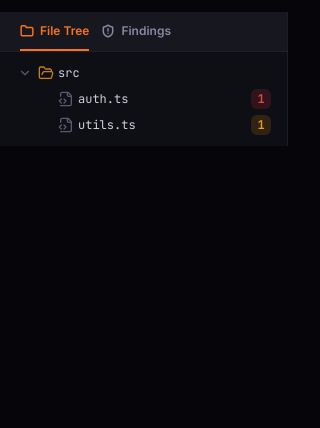
Sidebar Container › renders the Sidebar container and allows switching tabs
Expected: the text "File Tree" is shown, left=40, top=22, right=89, bottom=38
Expected: the text "auth.ts" is shown, left=78, top=90, right=128, bottom=108
# Switch to Findings tab
Click the button "Findings". click: (136, 32)
box: left=101, top=12, right=171, bottom=51
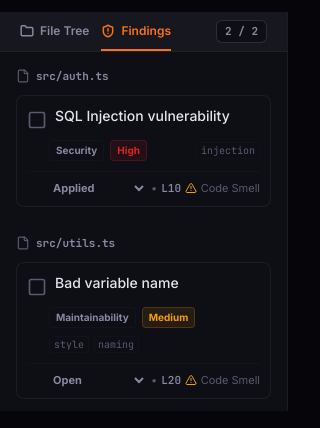
Result: the text "injection" is shown at left=196, top=142, right=260, bottom=158
Result: the text "naming" is shown at left=93, top=336, right=139, bottom=352
